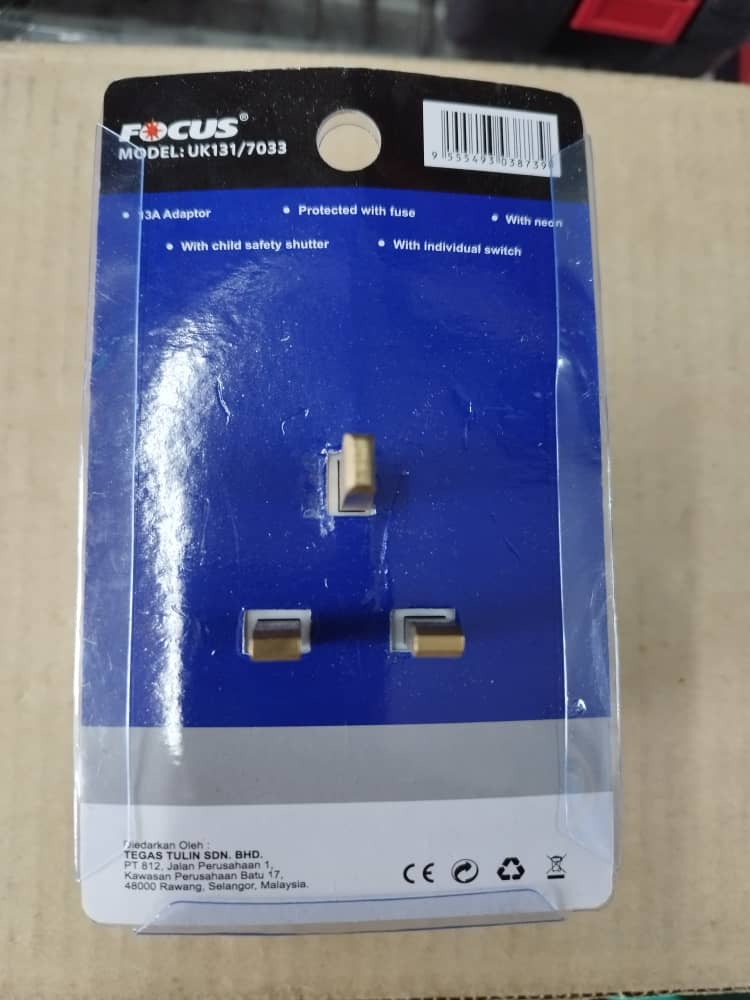sku_13a_adapter: (105, 181, 601, 883)
